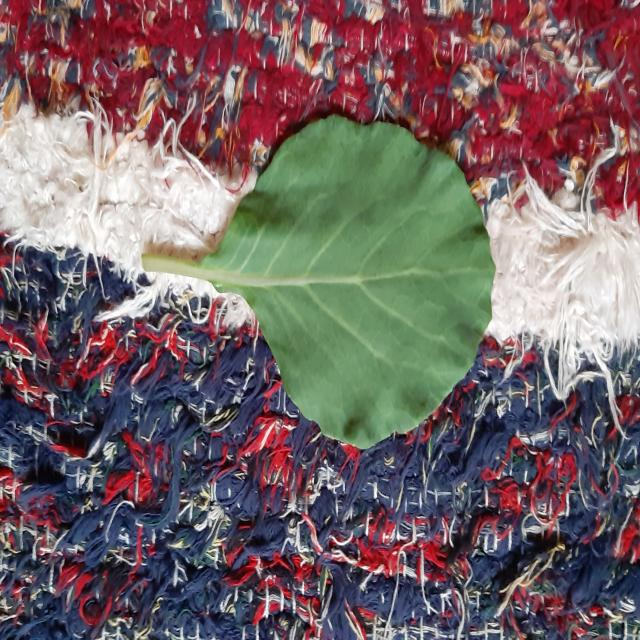Kohlrabi: (190, 116, 494, 447)
